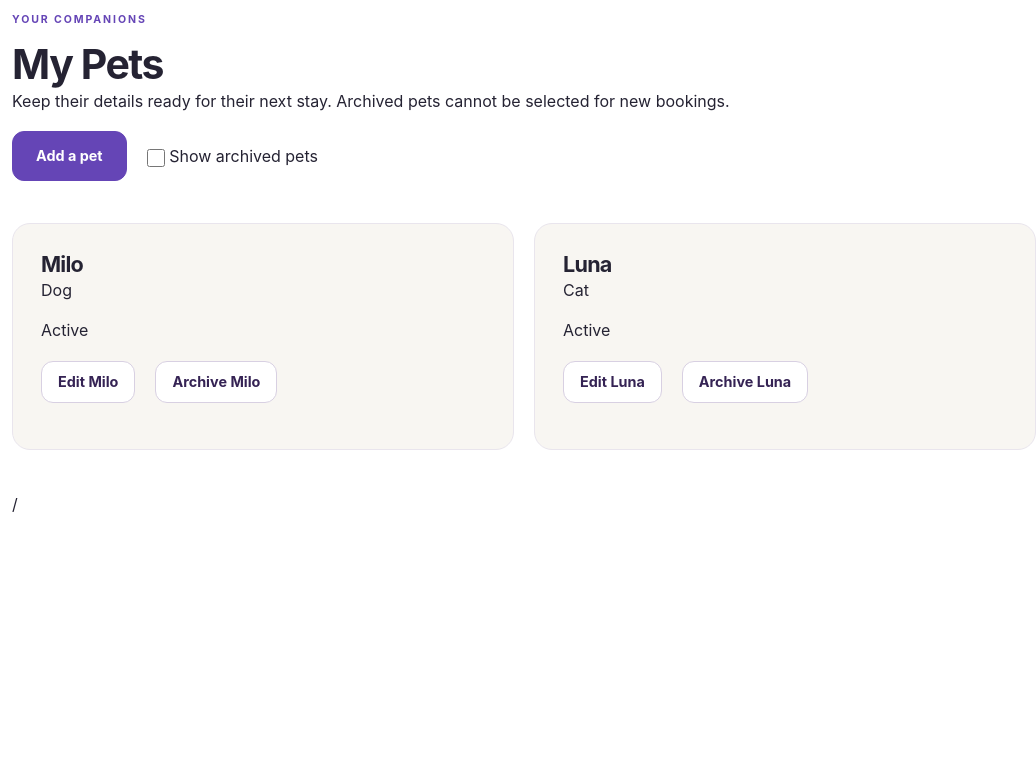
Test: requires inline archive confirmation and preserves history
The width and height of the screenshot is (1036, 780).
Click the button "Archive Milo" at (216, 382), box [155, 361, 277, 403]
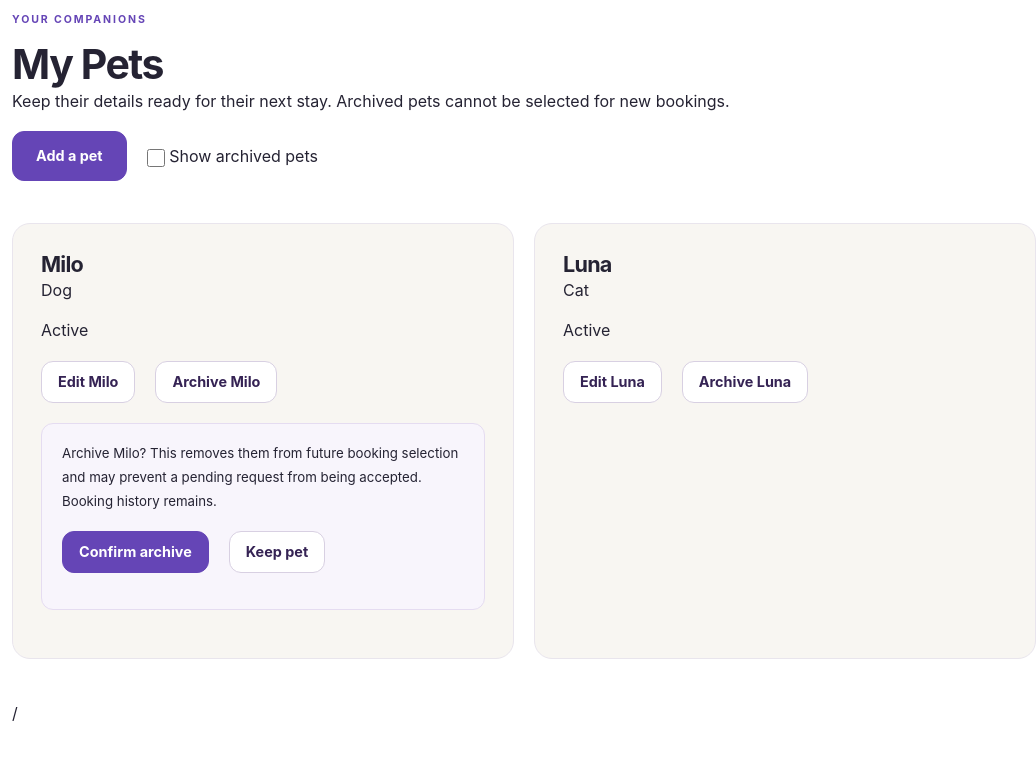
Click the button "Keep pet" at (277, 552), box [229, 532, 325, 573]
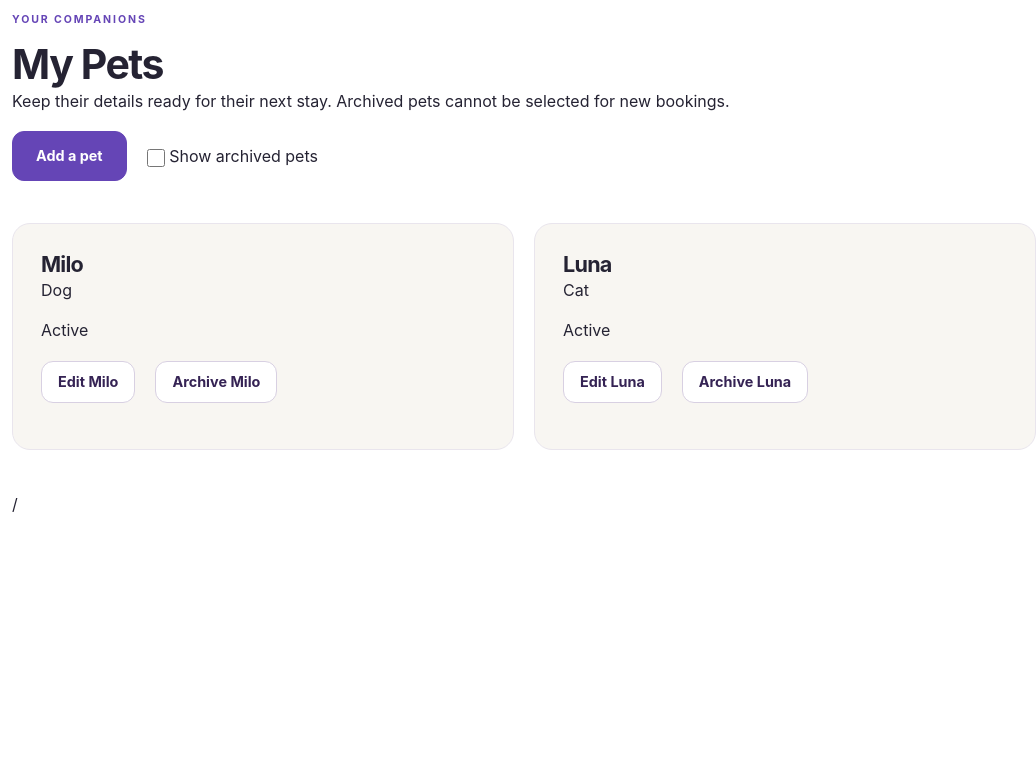
Click the button "Archive Milo" at (216, 382), box [155, 361, 277, 403]
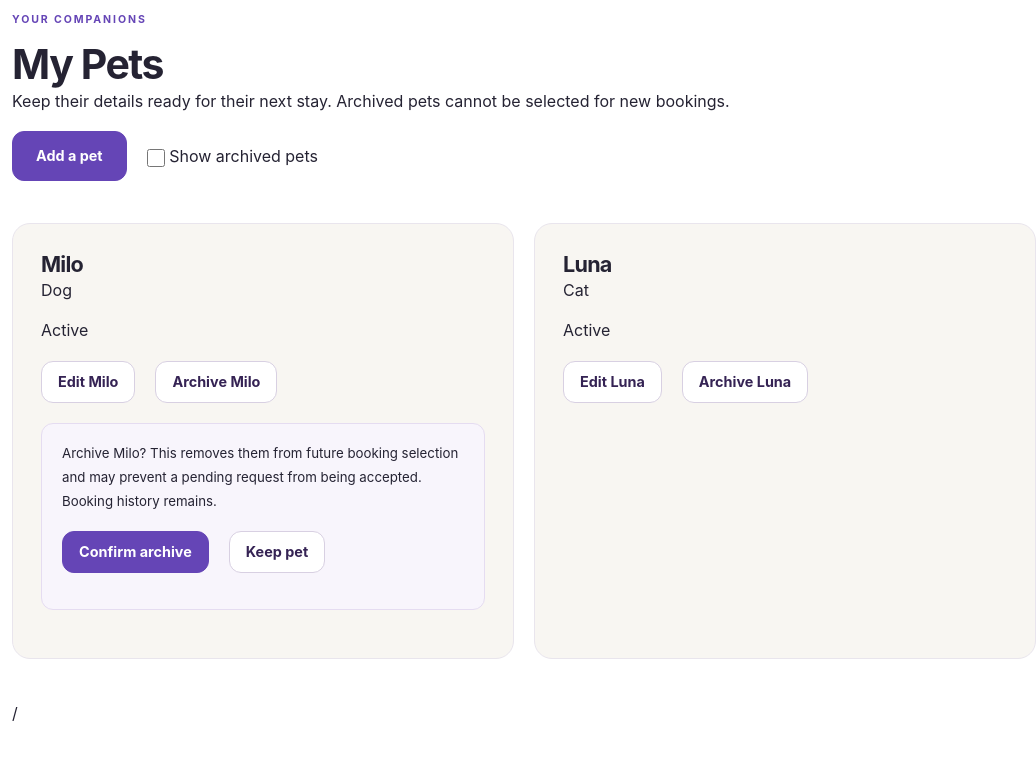
Click the button "Confirm archive" at (135, 552), box [62, 532, 209, 573]
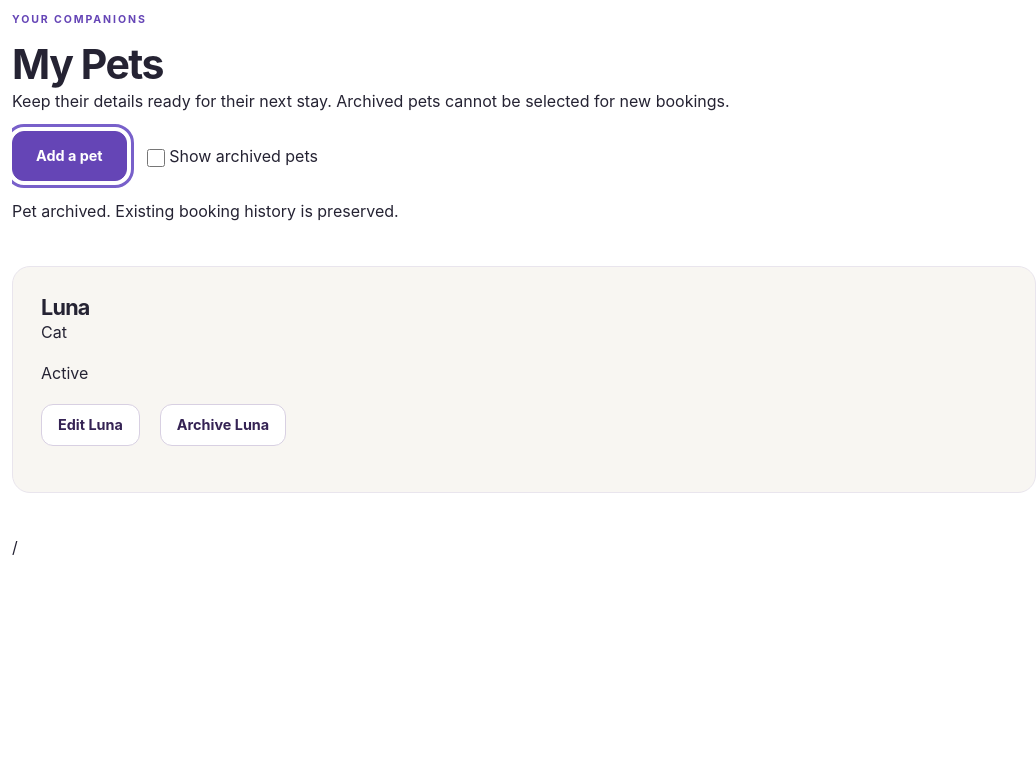
Now the button "Archive Milo" is gone
Now the text "Pet archived. Existing booking history is preserved." is shown, box [12, 201, 399, 221]
